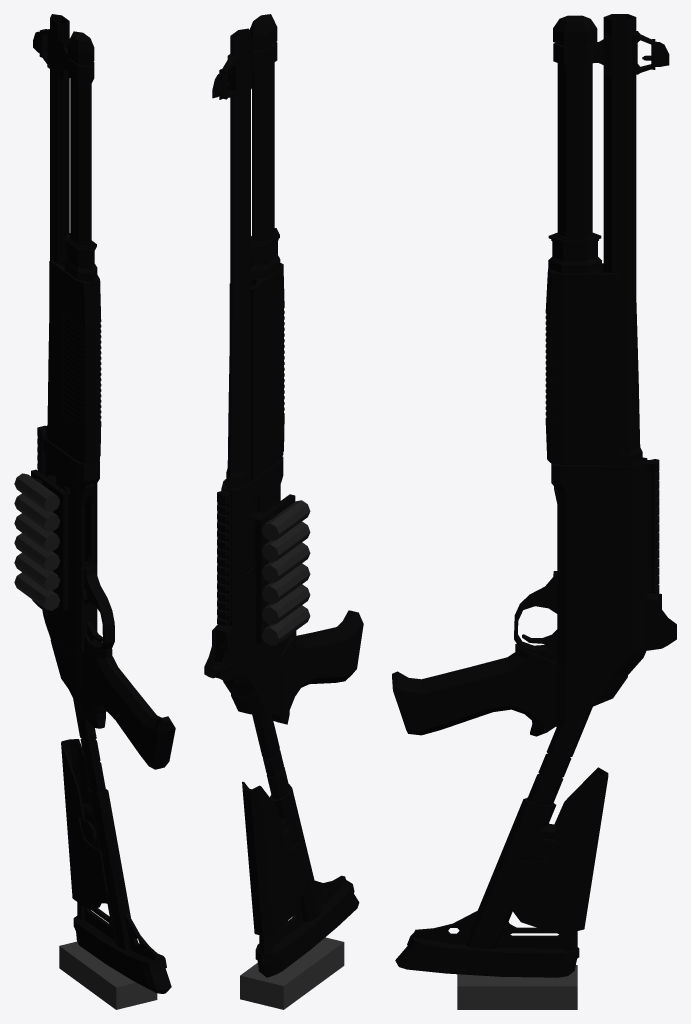
File: BenelliM4__RecoilPad_Rubber__Sidesaddle_Shotgun.fbx
The picture shows the model from 3 angles, left to right: view 1: azimuth 30°, elevation 25°; view 2: azimuth 150°, elevation 25°; view 3: azimuth 270°, elevation 25°; orthographic projection. The views are drawn at different scales.
Parts seen in each view (by area): view 1: asset_BenelliM4.001; view 2: asset_BenelliM4.001; view 3: asset_BenelliM4.001.
Part boxes in pixels (x1,y1,x2,y2): asset_BenelliM4.001: [14, 14, 175, 1009]; asset_BenelliM4.001: [204, 14, 363, 1009]; asset_BenelliM4.001: [392, 14, 676, 1009].
Bounding box in the file's own units: 0.0429 × 0.621 × 0.1633.
